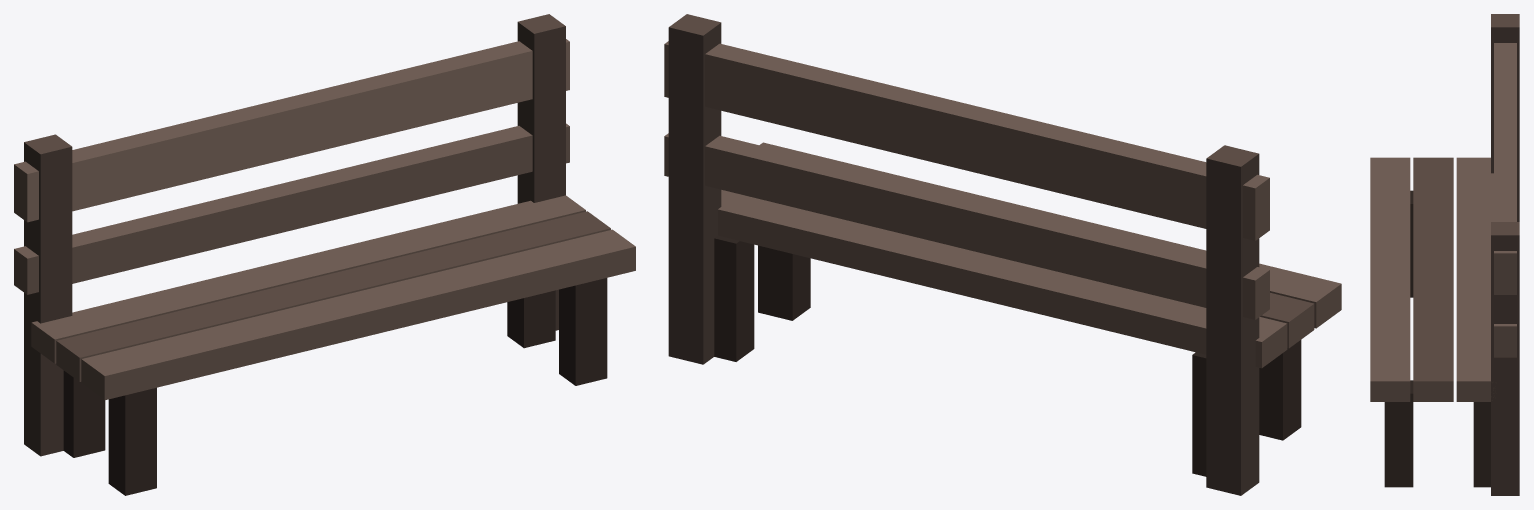
The model's file is bench_basic.fbx.
The picture shows the model from 3 angles, left to right: view 1: azimuth 30°, elevation 25°; view 2: azimuth 150°, elevation 25°; view 3: azimuth 270°, elevation 25°; orthographic projection. The views are drawn at different scales.
Parts seen in each view (by area): view 1: bench_basic; view 2: bench_basic; view 3: bench_basic.
Part boxes in pixels (x1,y1,x2,y2): bench_basic: (14,14,635,495); bench_basic: (664,14,1341,495); bench_basic: (1370,14,1519,495).
Size of the model in its own units: 0.94 by 0.5 by 0.26.
